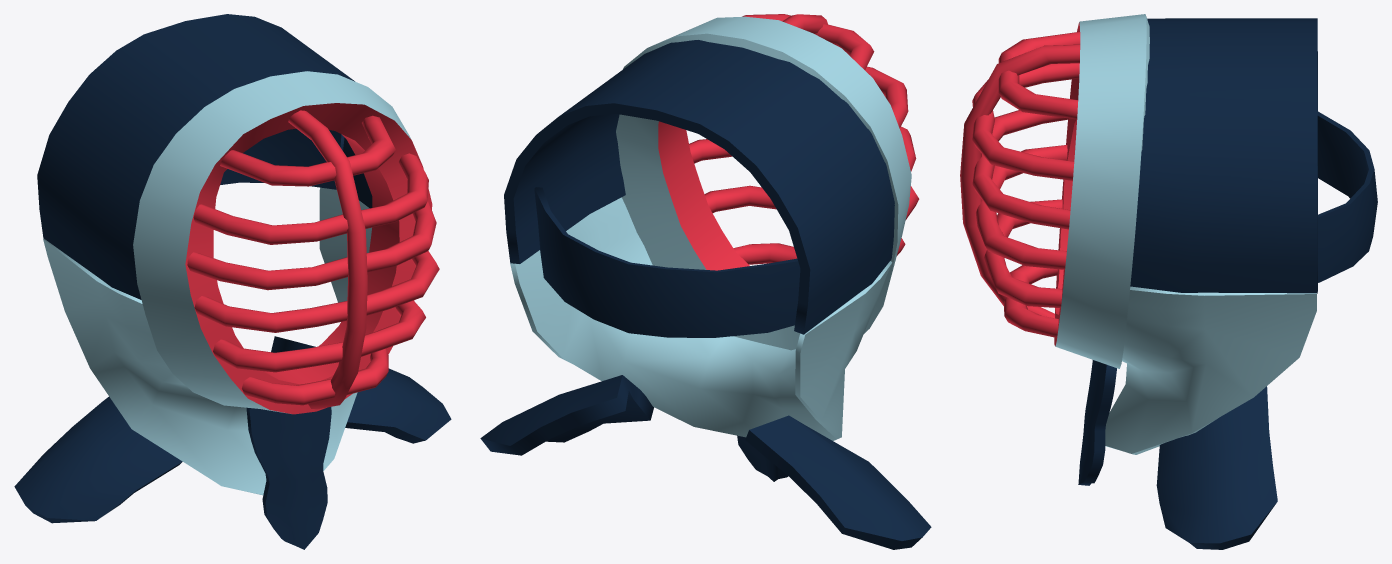
Rendered from Protection.fbx.
3 views of the same model, side by side, from view 1: azimuth 30°, elevation 25°; view 2: azimuth 150°, elevation 25°; view 3: azimuth 270°, elevation 25° (orthographic). The views are drawn at different scales.
Visible parts, largest first — view 1: Protection; view 2: Protection; view 3: Protection.
Part boxes in pixels (x1=…): Protection: x1=14, y1=14, x2=451, y2=549; Protection: x1=480, y1=14, x2=931, y2=549; Protection: x1=960, y1=14, x2=1377, y2=549.
Bounding box in the file's own units: 0.875 × 0.9008 × 0.7528.
